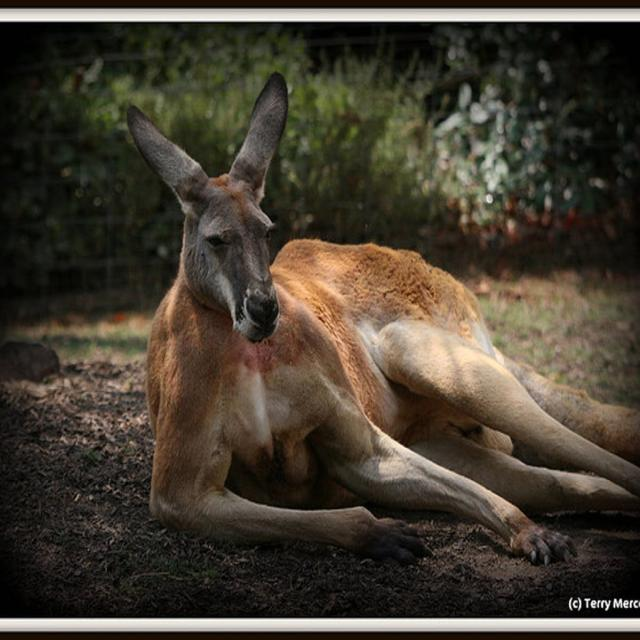Kangaroo: (104, 64, 640, 567)
